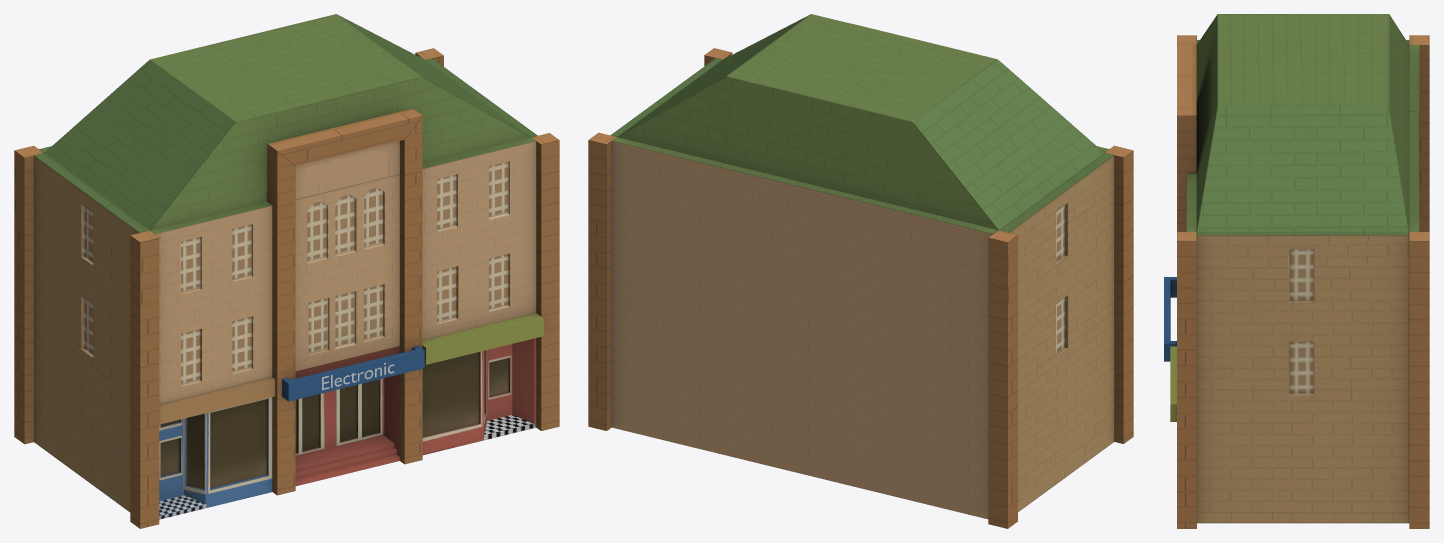
Rendered from department.glb.
3 renders of one model, left to right at view 1: azimuth 30°, elevation 25°; view 2: azimuth 150°, elevation 25°; view 3: azimuth 270°, elevation 25°, orthographic.
Visible parts, largest first — view 1: Cinema_mesh; view 2: Cinema_mesh; view 3: Cinema_mesh.
Boxes of the visible parts, left/top/right/bottom form: Cinema_mesh: left=14, top=14, right=559, bottom=528; Cinema_mesh: left=588, top=14, right=1133, bottom=528; Cinema_mesh: left=1164, top=14, right=1429, bottom=528.
Bounding box in the file's own units: 22.94 × 19.03 × 12.61.
1 material, 1 textured.
